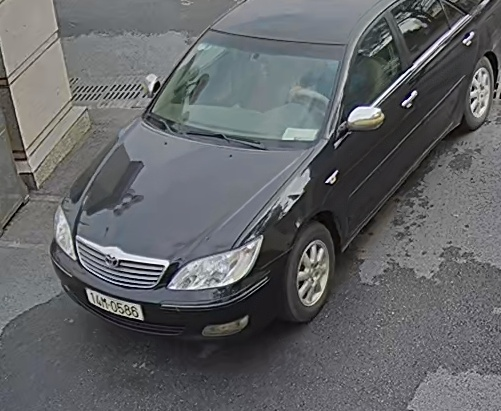vehicle plate: (81, 281, 146, 325)
